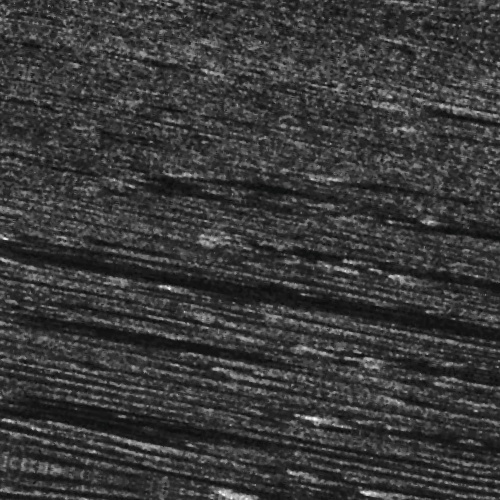object: (262, 383, 419, 422), (294, 231, 419, 250), (376, 478, 500, 495), (158, 310, 263, 329), (311, 328, 468, 339), (432, 262, 500, 279), (332, 76, 425, 83), (157, 179, 210, 188), (473, 359, 500, 368), (434, 186, 475, 191), (428, 463, 459, 468), (113, 195, 124, 208), (336, 161, 367, 164), (0, 272, 14, 275)
shadow: (340, 383, 500, 422), (184, 179, 500, 188), (357, 231, 500, 250), (0, 286, 500, 291), (119, 195, 294, 208), (210, 310, 329, 329), (390, 328, 500, 339), (379, 76, 500, 83), (0, 272, 217, 275), (352, 161, 500, 164), (443, 463, 500, 468), (454, 186, 500, 191)
